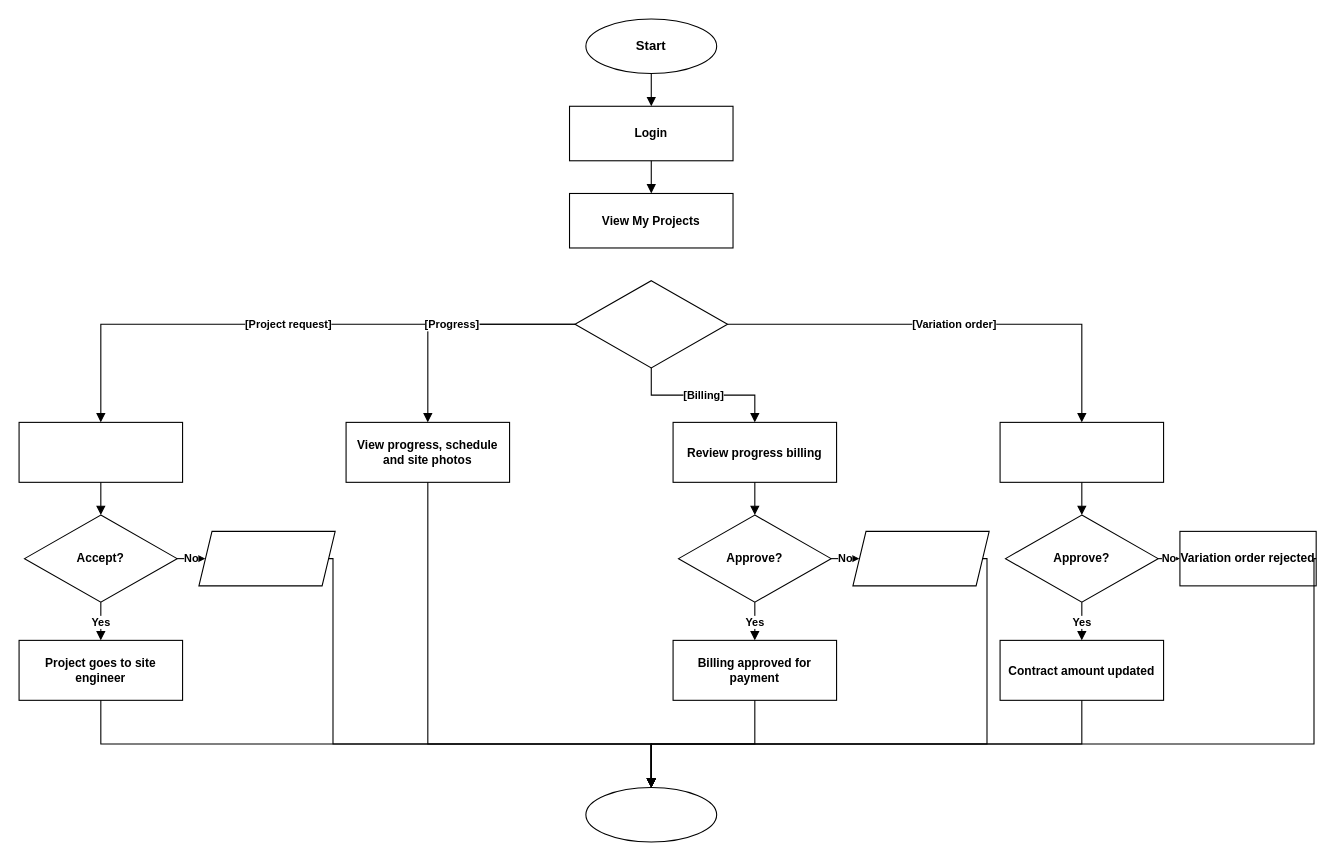
This 1344x861 diagram has some shape labels left out. The shapes that lost their labels are listed below. From the top down, each one's centre as x and y in pixels, then its label:
point (651, 324): Task?
point (100, 451): Review project request
point (1081, 451): Review variation order
point (266, 558): Input changes needed or reason for declining
point (920, 558): Input reason for dispute
point (651, 814): End
